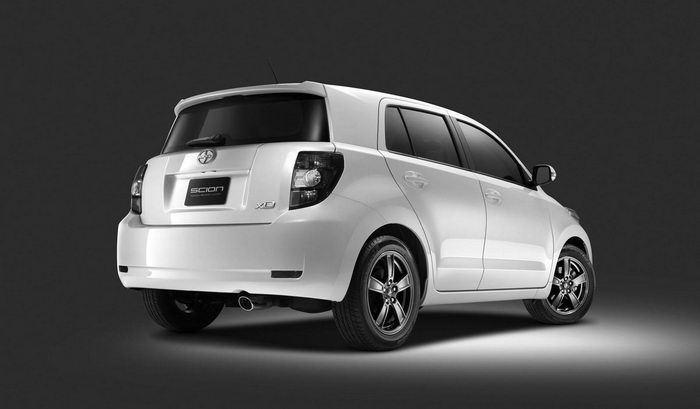car: (114, 79, 600, 356)
